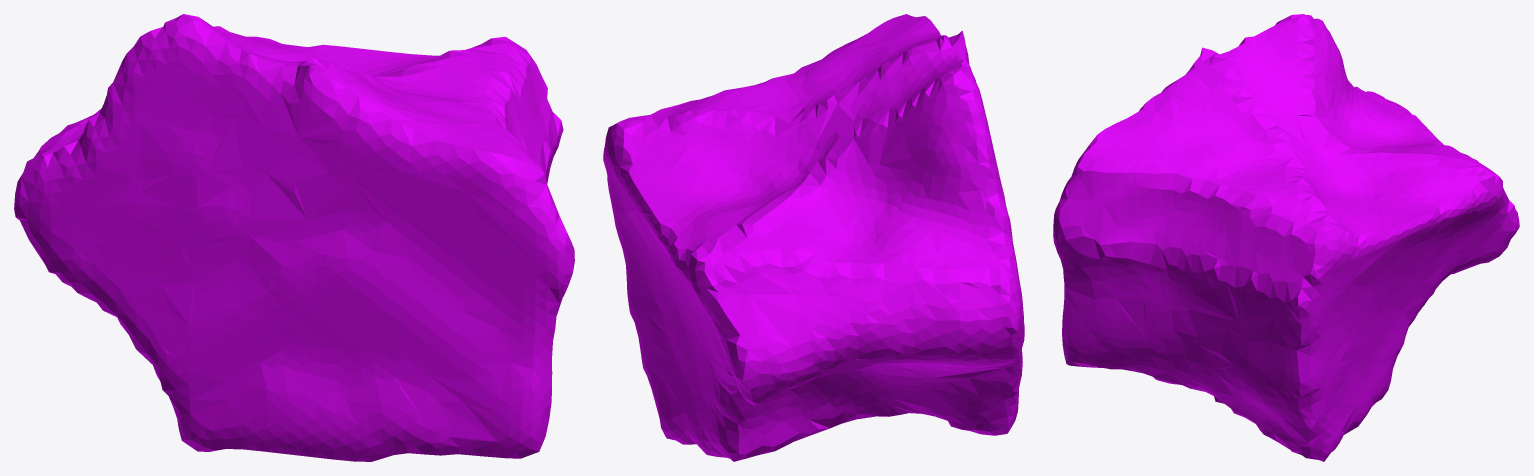
Rendered from Model_10110_LH__Parietal_area_PG_(PG).obj.
The picture shows the model from 3 angles, left to right: view 1: azimuth 30°, elevation 25°; view 2: azimuth 150°, elevation 25°; view 3: azimuth 270°, elevation 25°; orthographic projection. The views are drawn at different scales.
Bounding box in the file's own units: 3.42 × 2.99 × 3.73.
